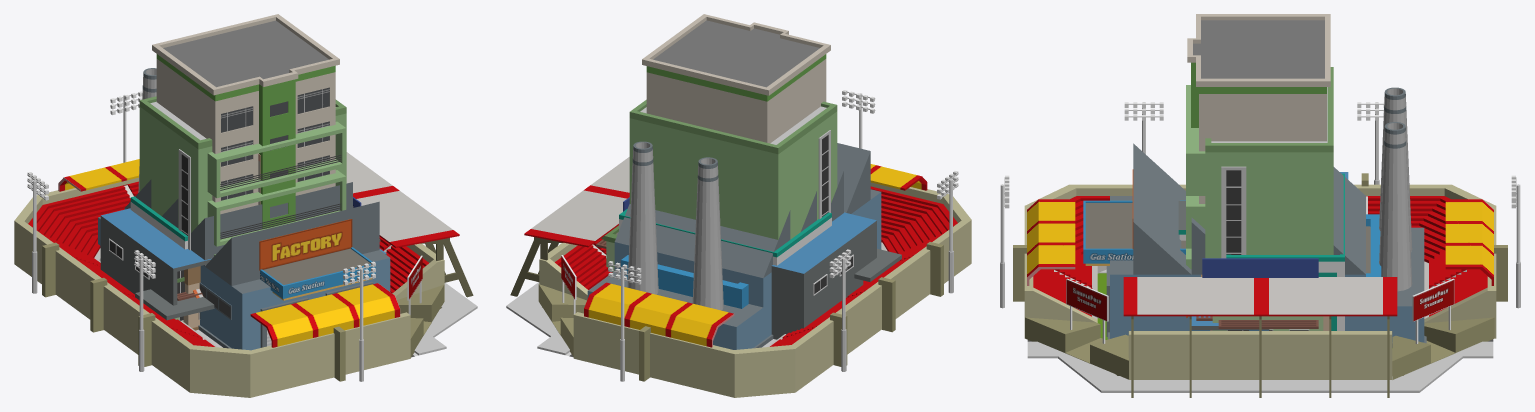
File: city.glb
3 renders of one model, left to right at view 1: azimuth 30°, elevation 25°; view 2: azimuth 150°, elevation 25°; view 3: azimuth 270°, elevation 25°, orthographic. The views are drawn at different scales.
Visible parts, largest first — view 1: Building_Stadium, Building Sky_big_color01, Building_Factory, Building_Residential_color01, Building_House_04_color01, Building_Gas Station, Road Lane Bus Stop, Building_House_03_color01, Building_Coffee Shop; view 2: Building_Stadium, Building_Factory, Building_Residential_color01, Building Sky_big_color01, Building_House_04_color01, Road Lane Bus Stop, Building_Gas Station, Building_House_03_color01, Building_Super Market; view 3: Building_Stadium, Building_Factory, Building Sky_big_color01, Building_Residential_color01, Road Lane Bus Stop, Building_Gas Station, Building_House_03_color01, Building_Super Market.
Boxes of the visible parts, x1,y1,x2,y2 form: Building_Stadium: (14, 91, 473, 397); Building Sky_big_color01: (152, 14, 339, 229); Building_Factory: (98, 68, 390, 350); Building_Residential_color01: (139, 96, 346, 256); Building_House_04_color01: (100, 208, 386, 320); Building_Gas Station: (260, 247, 375, 300); Road Lane Bus Stop: (198, 282, 477, 356); Building_House_03_color01: (130, 196, 187, 249); Building_Coffee Shop: (183, 266, 203, 330); Building_Stadium: (510, 90, 971, 397); Building_Factory: (587, 141, 881, 349); Building_Residential_color01: (629, 99, 837, 239); Building Sky_big_color01: (642, 14, 830, 143); Building_House_04_color01: (771, 212, 901, 339); Road Lane Bus Stop: (506, 282, 776, 357); Building_Gas Station: (621, 255, 748, 308); Building_House_03_color01: (619, 209, 831, 265); Building_Super Market: (596, 225, 618, 272); Building_Stadium: (1000, 102, 1520, 397); Building_Factory: (1106, 87, 1426, 347); Building Sky_big_color01: (1187, 14, 1330, 203); Building_Residential_color01: (1186, 67, 1333, 269); Road Lane Bus Stop: (1027, 269, 1493, 392); Building_Gas Station: (1083, 200, 1381, 276); Building_House_03_color01: (1178, 173, 1344, 330); Building_Super Market: (1196, 316, 1323, 330).
Size of the model in its own units: 35.46 by 25.02 by 44.76.
Materials: 100 (91 with a texture image).
